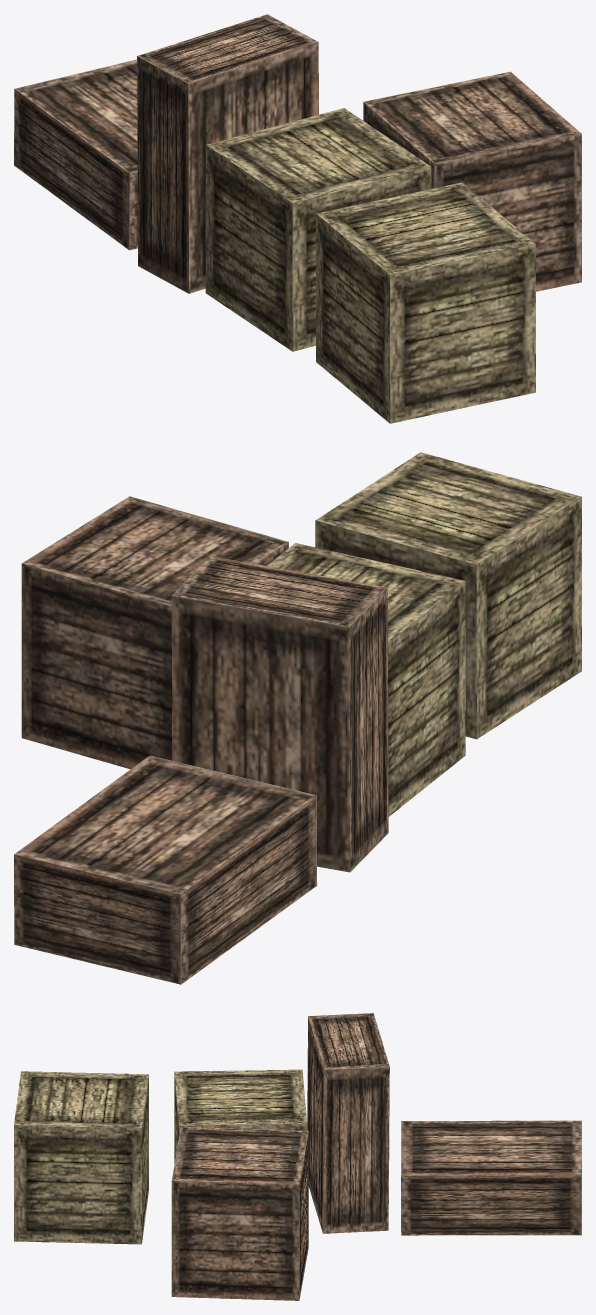
File: eaw_crates8.glb
The picture shows the model from 3 angles, top to bottom: view 1: azimuth 30°, elevation 25°; view 2: azimuth 150°, elevation 25°; view 3: azimuth 270°, elevation 25°; orthographic projection. The views are drawn at different scales.
Parts seen in each view (by area): view 1: Object48_0; view 2: Object48_0; view 3: Object48_0.
Boxes of the visible parts, x1,y1,x2,y2 form: Object48_0: (14, 14, 581, 423); Object48_0: (14, 452, 581, 984); Object48_0: (14, 1013, 581, 1300).
Bounding box in the file's own units: 2.18 × 1.34 × 4.19.
1 material, 1 textured.
